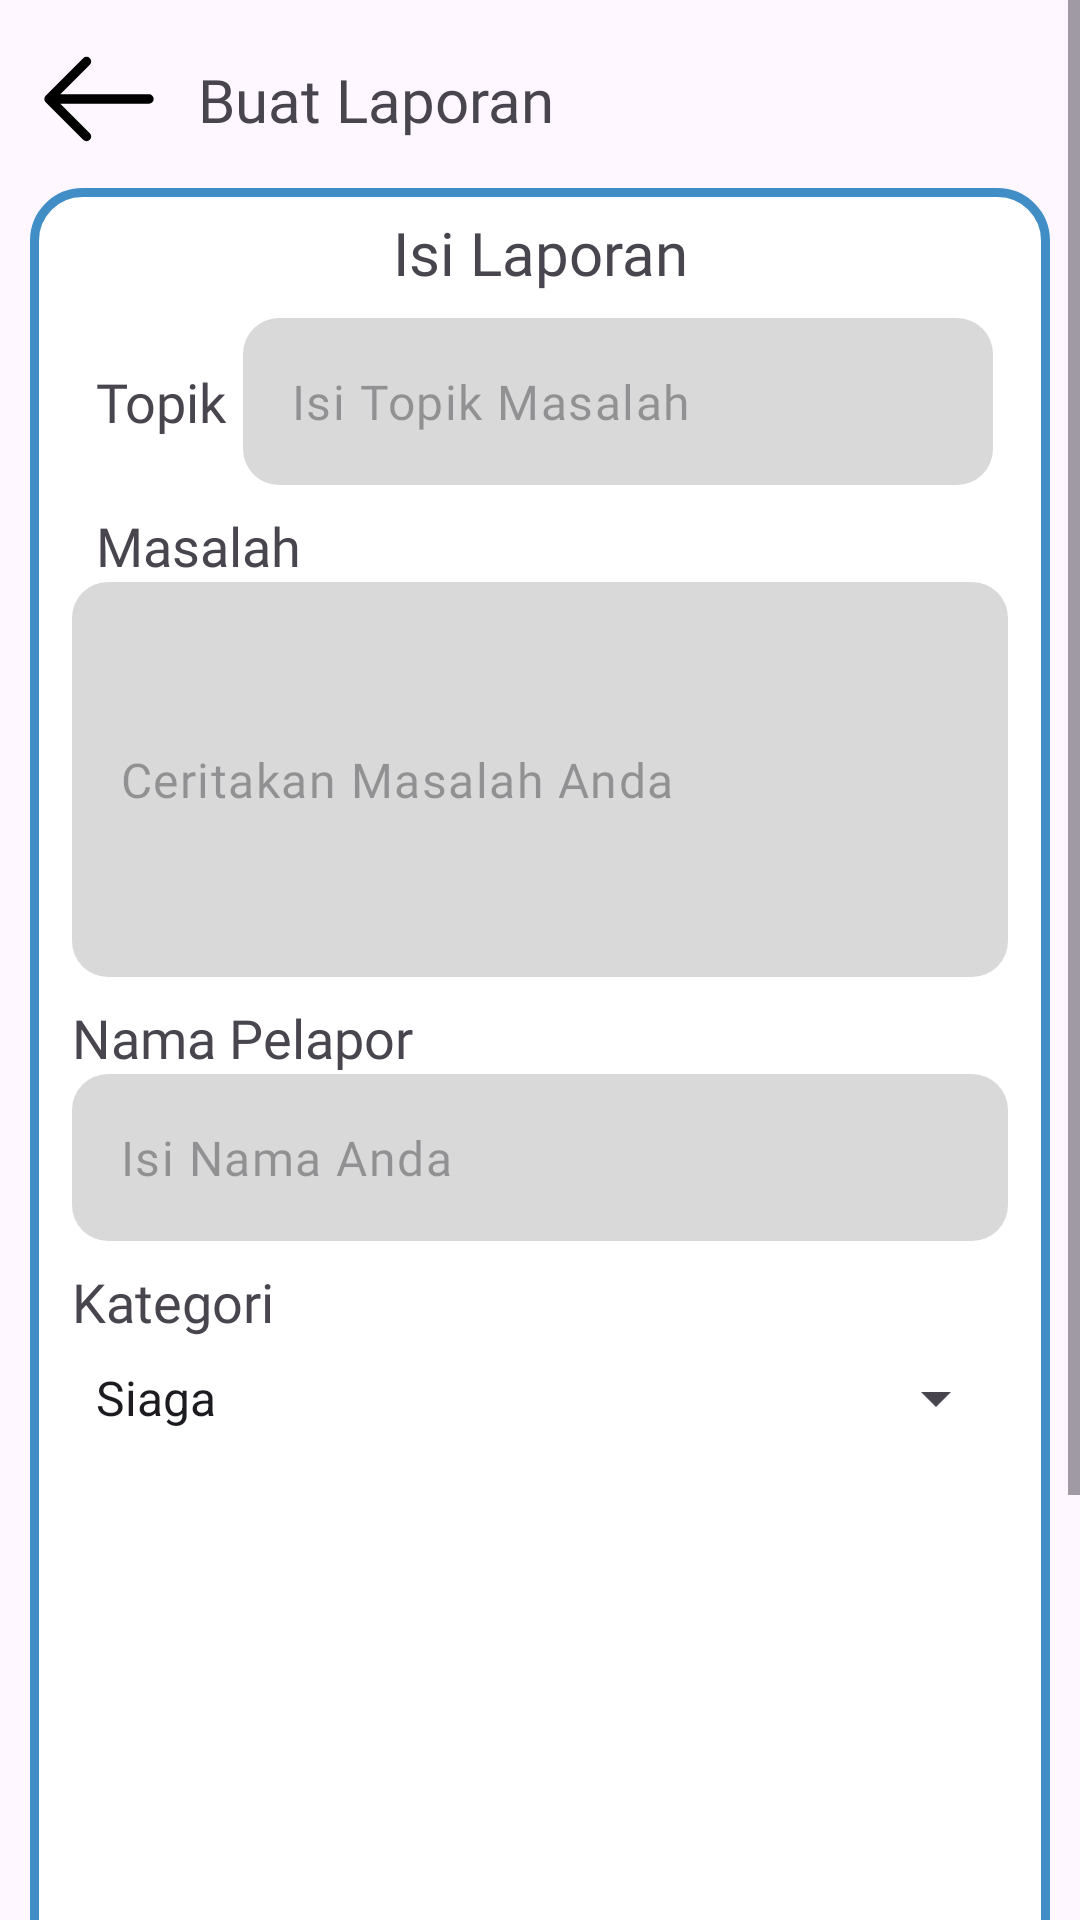

Where icons sit on this 1080×1920 app screen, as (x1, y1, x2, y2):
back: (44, 56, 154, 142)
